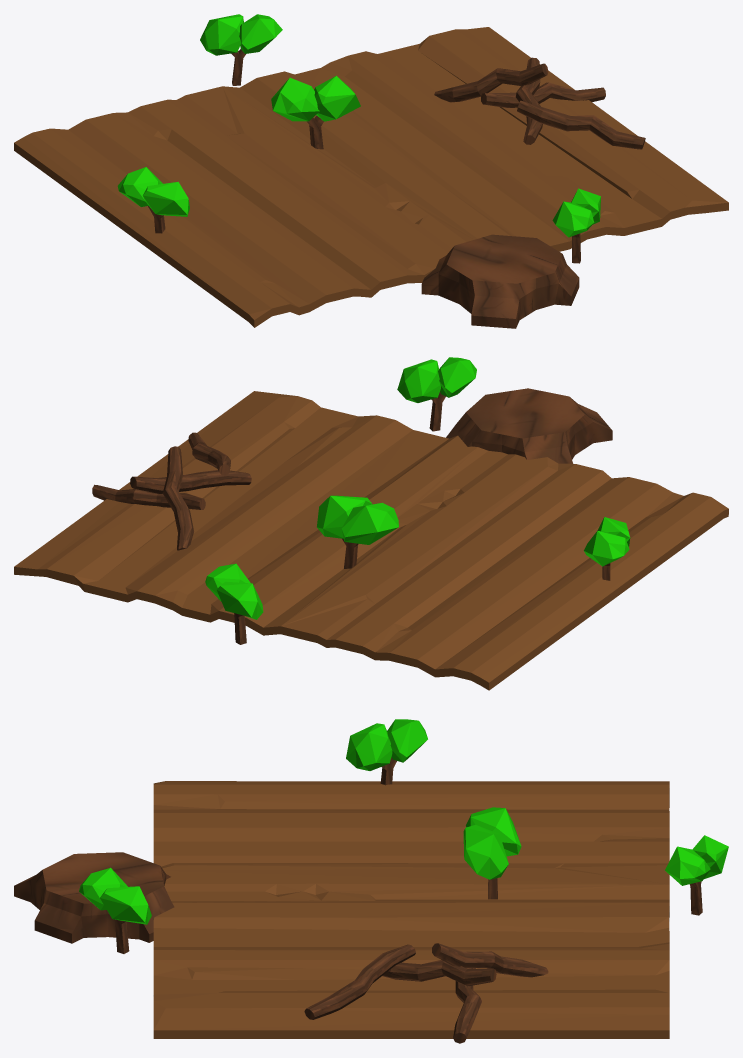
Rendered from ChampDeBlé_Ressources.fbx.
3 renders of one model, top to bottom at view 1: azimuth 30°, elevation 25°; view 2: azimuth 150°, elevation 25°; view 3: azimuth 270°, elevation 25°, orthographic. The views are drawn at different scales.
Visible parts, largest first — view 1: Ground, Cylinder.004, Cylinder.001, Cylinder.003, Icosphere.003, Cylinder, Icosphere.002, Icosphere.007, Icosphere.001, Icosphere.006, Icosphere.005, Icosphere (+2 smaller); view 2: Ground, Cylinder.004, Icosphere.003, Cylinder.003, Cylinder.002, Icosphere.004, Icosphere.002, Cylinder, Icosphere.007, Icosphere.005, Icosphere, Cylinder.001 (+1 smaller); view 3: Ground, Cylinder.004, Cylinder.001, Cylinder.003, Icosphere.002, Cylinder.002, Icosphere.001, Icosphere.004, Icosphere.003, Icosphere, Icosphere.006, Cylinder (+2 smaller).
Part boxes in pixels (x1=…): Ground: x1=14, y1=27, x2=728, y2=327; Cylinder.004: x1=421, y1=234, x2=579, y2=328; Cylinder.001: x1=517, y1=100, x2=645, y2=149; Cylinder.003: x1=434, y1=63, x2=548, y2=102; Icosphere.003: x1=271, y1=77, x2=319, y2=121; Cylinder: x1=481, y1=82, x2=605, y2=107; Icosphere.002: x1=314, y1=75, x2=360, y2=121; Icosphere.007: x1=200, y1=14, x2=243, y2=55; Icosphere.001: x1=142, y1=181, x2=189, y2=216; Icosphere.006: x1=239, y1=14, x2=282, y2=53; Icosphere.005: x1=552, y1=201, x2=594, y2=237; Icosphere: x1=117, y1=167, x2=162, y2=206; Ground: x1=14, y1=391, x2=728, y2=690; Cylinder.004: x1=446, y1=388, x2=612, y2=463; Icosphere.003: x1=341, y1=502, x2=398, y2=544; Cylinder.003: x1=162, y1=446, x2=193, y2=550; Cylinder.002: x1=130, y1=470, x2=251, y2=493; Icosphere.004: x1=397, y1=359, x2=440, y2=402; Icosphere.002: x1=317, y1=495, x2=372, y2=538; Cylinder: x1=92, y1=484, x2=205, y2=509; Icosphere.007: x1=217, y1=581, x2=263, y2=619; Icosphere.005: x1=438, y1=357, x2=476, y2=397; Icosphere: x1=584, y1=531, x2=629, y2=566; Cylinder.001: x1=188, y1=432, x2=230, y2=475; Ground: x1=153, y1=781, x2=669, y2=1038; Cylinder.004: x1=14, y1=852, x2=174, y2=943; Cylinder.001: x1=304, y1=944, x2=415, y2=1019; Cylinder.003: x1=432, y1=943, x2=548, y2=977; Icosphere.002: x1=463, y1=825, x2=508, y2=879; Cylinder.002: x1=382, y1=960, x2=496, y2=986; Icosphere.001: x1=346, y1=723, x2=392, y2=770; Icosphere.004: x1=100, y1=886, x2=151, y2=924; Icosphere.003: x1=466, y1=807, x2=521, y2=856; Icosphere: x1=387, y1=719, x2=427, y2=762; Icosphere.006: x1=665, y1=846, x2=710, y2=885; Cylinder: x1=453, y1=968, x2=481, y2=1043.
Size of the model in its own units: 984 by 154 by 1118.
3 materials, 1 textured.
